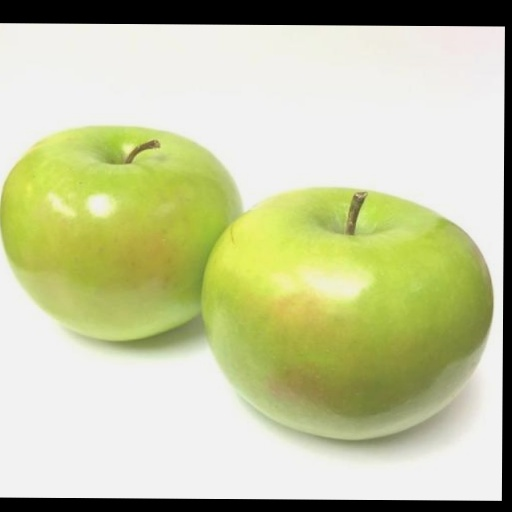fruit: (202, 188, 491, 439), (0, 127, 239, 340)
